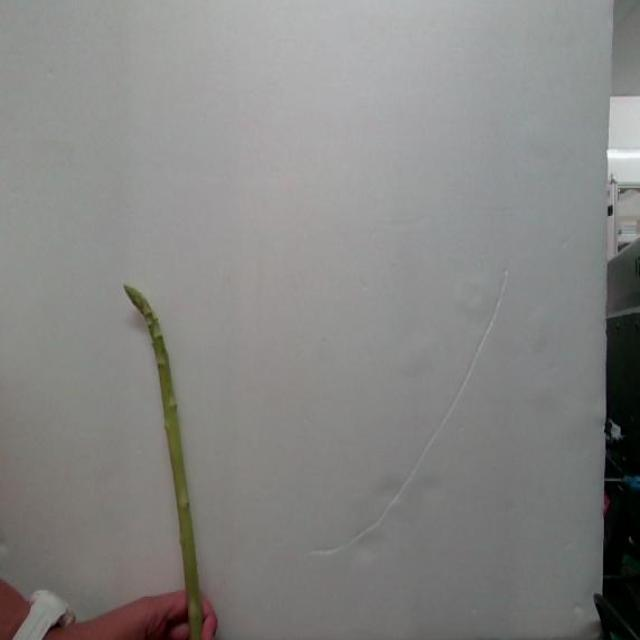aspargus: (122, 287, 208, 640)
